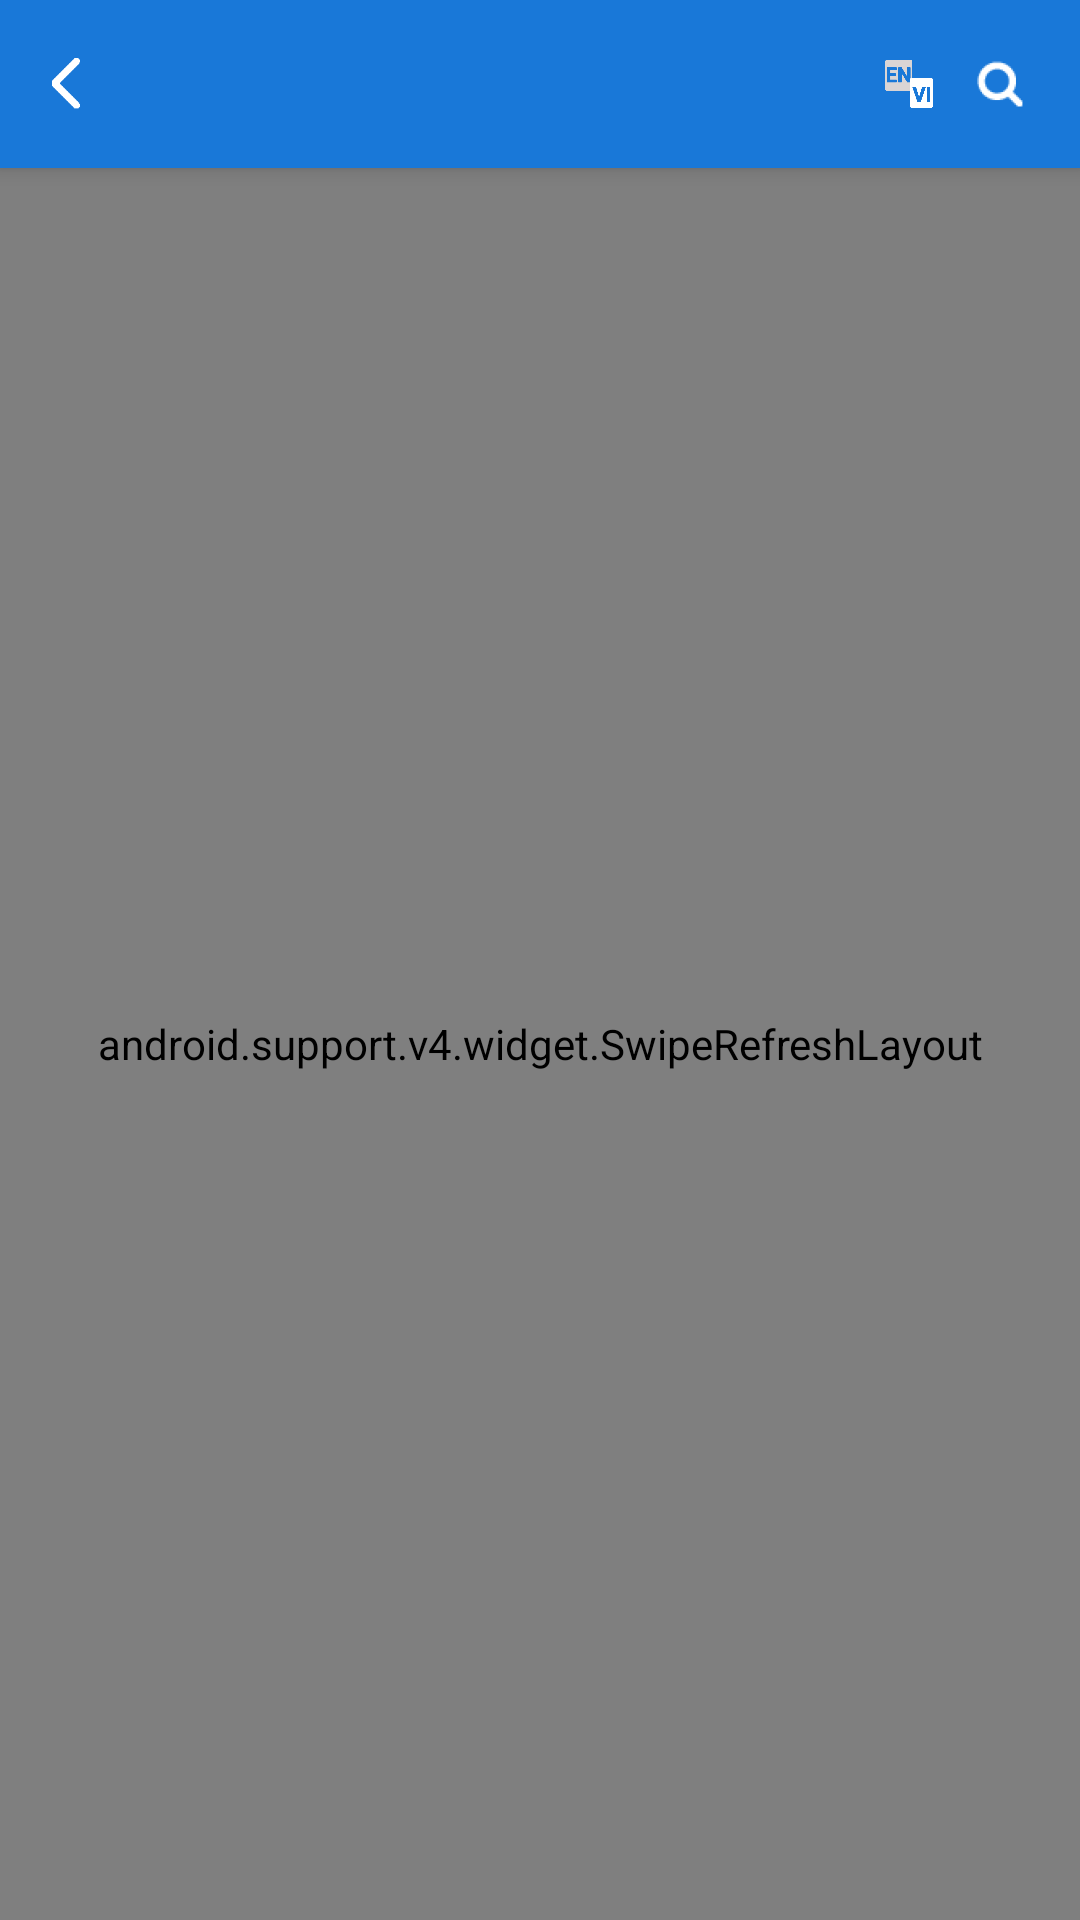

Where to tap for icons on this 1080 x 1920 app screen, as point (x, y):
back: point (66, 83)
lsearch: point (1000, 84)
